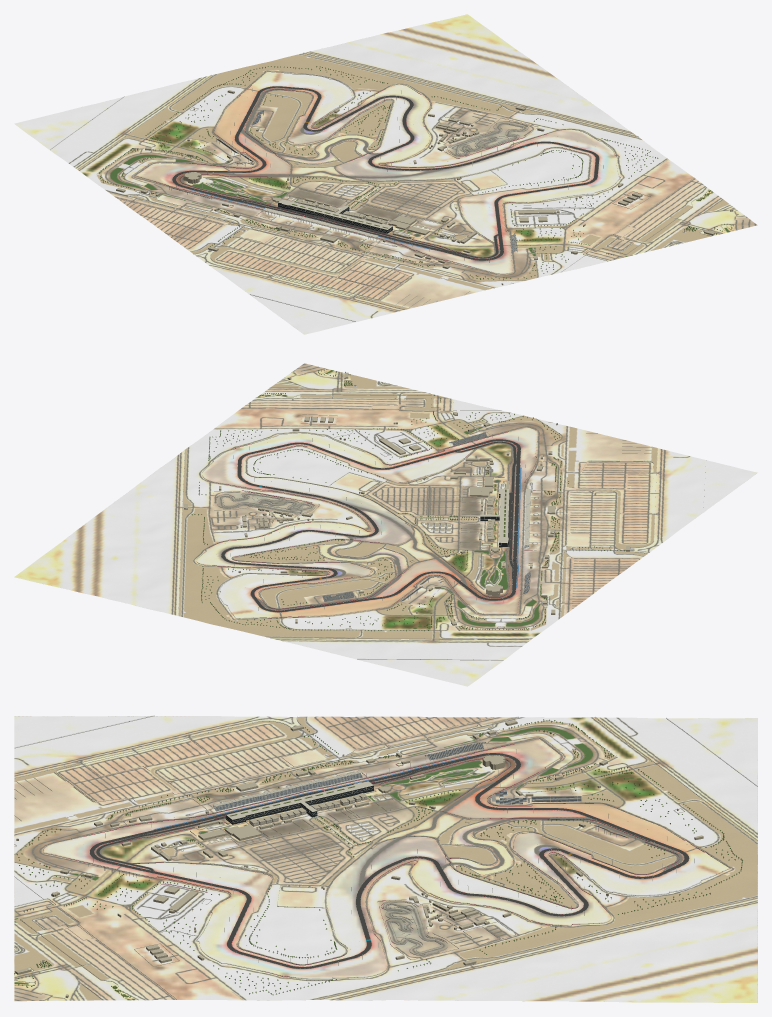
File: qatar.glb
The picture shows the model from 3 angles, top to bottom: view 1: azimuth 30°, elevation 25°; view 2: azimuth 150°, elevation 25°; view 3: azimuth 270°, elevation 25°; orthographic projection. The views are drawn at different scales.
Visible parts, largest first — view 1: Qatar_Terrain, Qatar_Safety_Barriers, Qatar_Raceway, Qatar_Building_Roofs, Qatar_Mapped_Trees, Qatar_Buildings, Qatar_Pit_Lane; view 2: Qatar_Terrain, Qatar_Safety_Barriers, Qatar_Raceway, Qatar_Building_Roofs, Qatar_Mapped_Trees, Qatar_Buildings, Qatar_Grandstands, Qatar_Seat_Rows; view 3: Qatar_Terrain, Qatar_Safety_Barriers, Qatar_Raceway, Qatar_Building_Roofs, Qatar_Buildings, Qatar_Mapped_Trees, Qatar_Grandstands, Qatar_Seat_Rows, Qatar_Pit_Architecture, Qatar_Catch_Fences, Qatar_Pit_Lane.
Boxes of the visible parts, box(x1,y1,x2,y2) form: Qatar_Terrain: box(14, 14, 757, 334); Qatar_Safety_Barriers: box(50, 53, 733, 321); Qatar_Raceway: box(172, 86, 599, 260); Qatar_Building_Roofs: box(116, 90, 732, 283); Qatar_Mapped_Trees: box(99, 66, 738, 279); Qatar_Buildings: box(116, 91, 733, 285); Qatar_Pit_Lane: box(206, 192, 499, 258); Qatar_Terrain: box(14, 363, 757, 686); Qatar_Safety_Barriers: box(178, 369, 705, 660); Qatar_Raceway: box(221, 439, 520, 612); Qatar_Building_Roofs: box(184, 372, 630, 625); Qatar_Mapped_Trees: box(191, 369, 625, 631); Qatar_Buildings: box(184, 374, 630, 627); Qatar_Grandstands: box(322, 432, 530, 601); Qatar_Seat_Rows: box(322, 432, 530, 601); Qatar_Terrain: box(14, 716, 757, 1002); Qatar_Safety_Barriers: box(14, 716, 757, 999); Qatar_Raceway: box(90, 753, 689, 968); Qatar_Building_Roofs: box(16, 720, 703, 996); Qatar_Buildings: box(15, 722, 703, 997); Qatar_Mapped_Trees: box(14, 719, 742, 997); Qatar_Grandstands: box(88, 742, 628, 877); Qatar_Seat_Rows: box(90, 742, 628, 874); Qatar_Pit_Architecture: box(183, 784, 480, 917); Qatar_Catch_Fences: box(15, 716, 751, 998); Qatar_Pit_Lane: box(96, 762, 453, 871).
Bounding box in the file's own units: 1660 × 24.46 × 1841.
17 materials, 11 textured.
